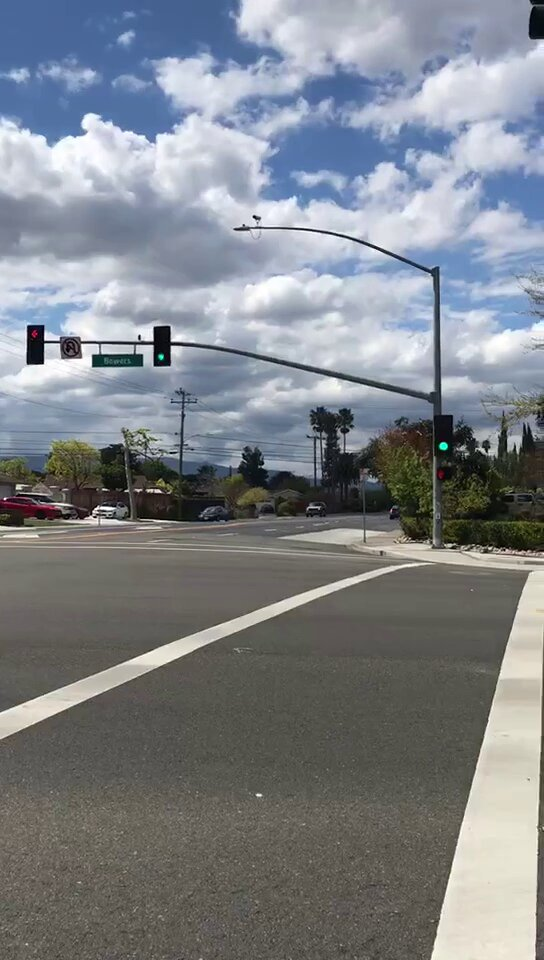green_light: (435, 416, 452, 459), (154, 326, 172, 365)
